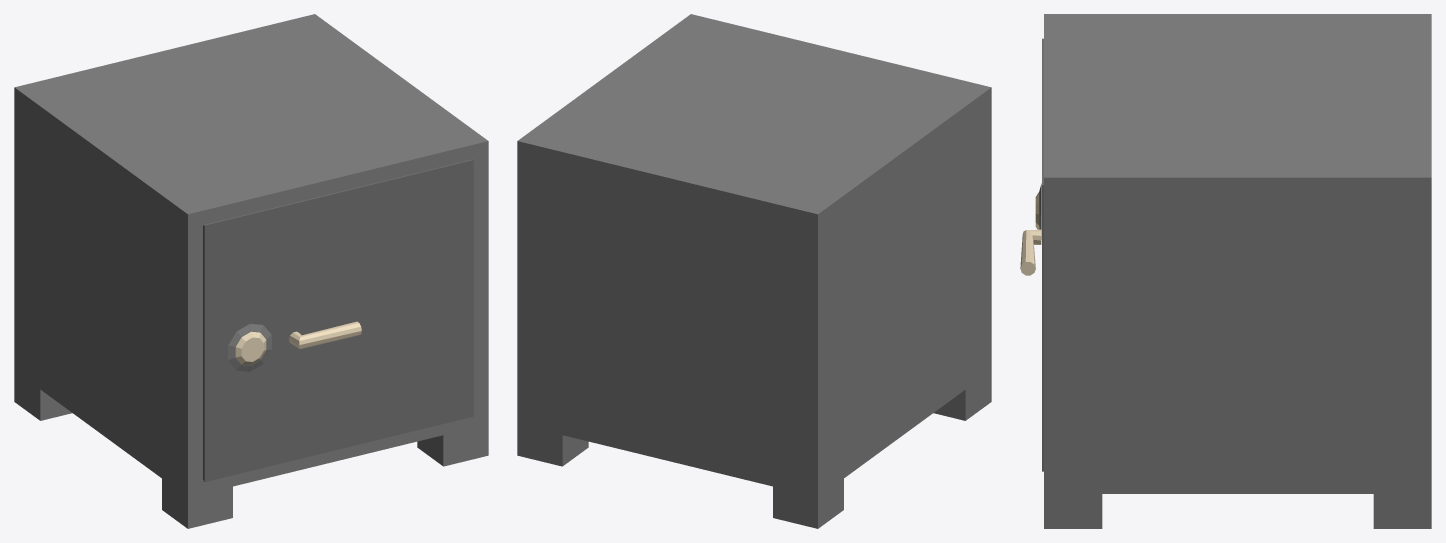
The model's file is safe.fbx.
3 views of the same model, side by side, from view 1: azimuth 30°, elevation 25°; view 2: azimuth 150°, elevation 25°; view 3: azimuth 270°, elevation 25° (orthographic). The views are drawn at different scales.
Visible parts, largest first — view 1: Cube.002, Cube; view 2: Cube.002; view 3: Cube.002, Cube.
Boxes of the visible parts, x1,y1,x2,y2 form: Cube.002: (14,14,488,528); Cube: (203,159,473,481); Cube.002: (517,14,991,528); Cube.002: (1044,14,1431,528); Cube: (1020,38,1043,471).
Size of the model in its own units: 200 by 200 by 212.
